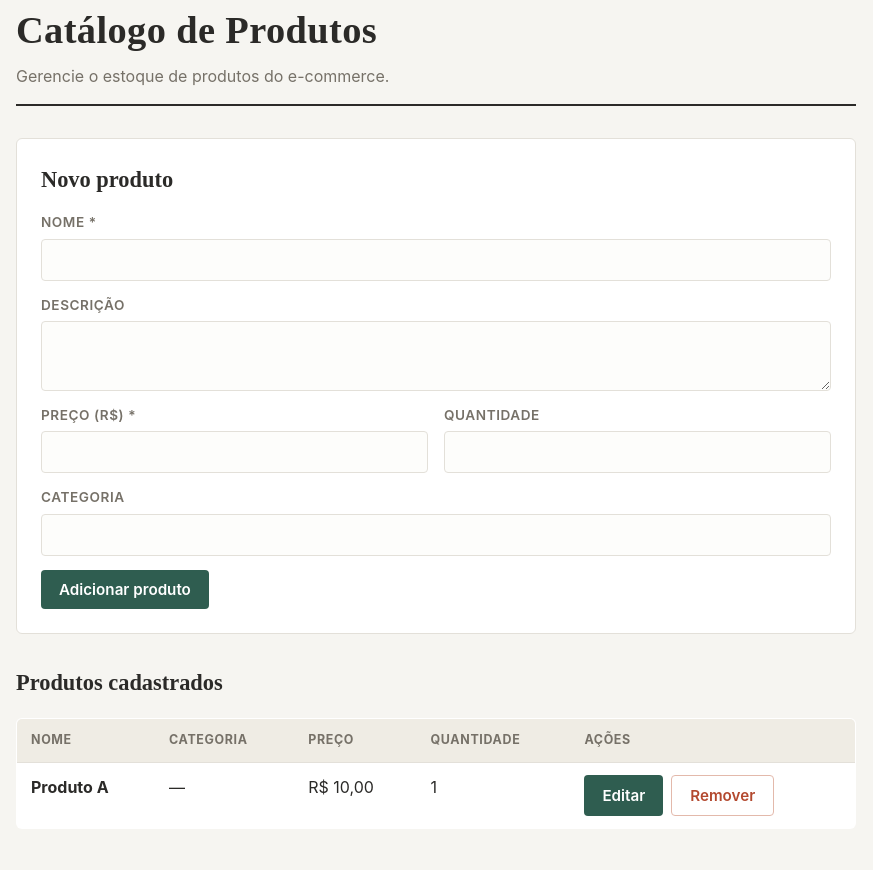
Test: App › remove um produto após confirmação
Check: the text "Produto A" is shown, box x1=31 y1=777 x2=109 y2=797
Click the button with test id "botao-remover-1" at (723, 795), box x1=671 y1=775 x2=774 y2=816
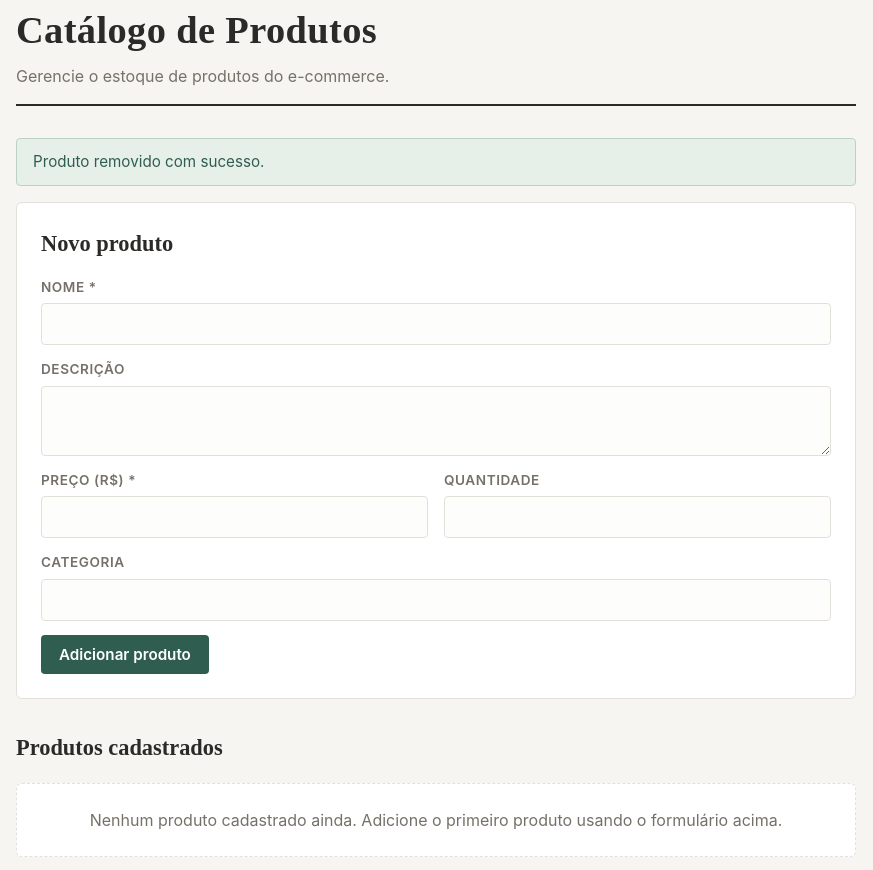
Check: the message with test id "mensagem-sucesso" reads "Produto removido com sucesso.", box x1=33 y1=152 x2=264 y2=171
Check: the text with test id "lista-vazia" is shown, box x1=16 y1=783 x2=856 y2=857
